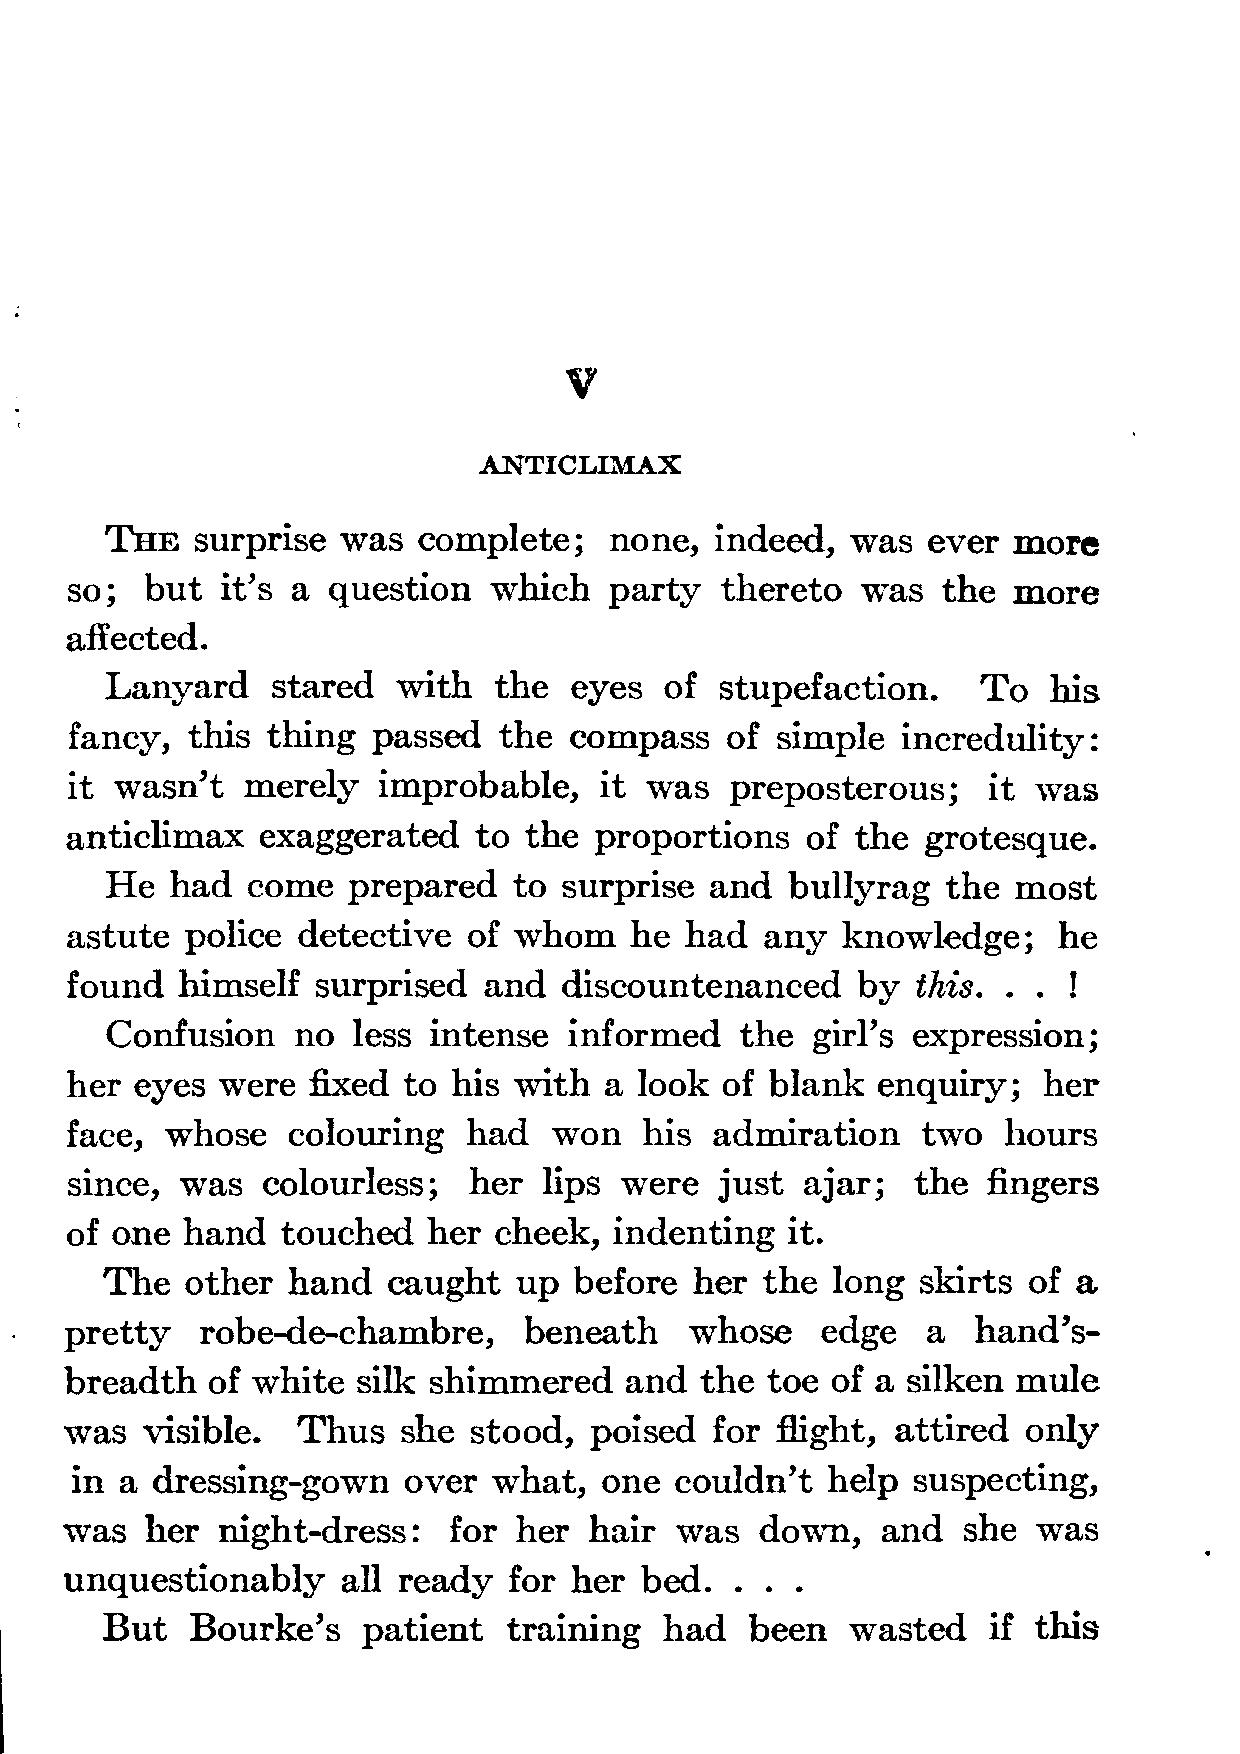chapter: (476, 364, 680, 476)
content: (63, 519, 1100, 1653)
